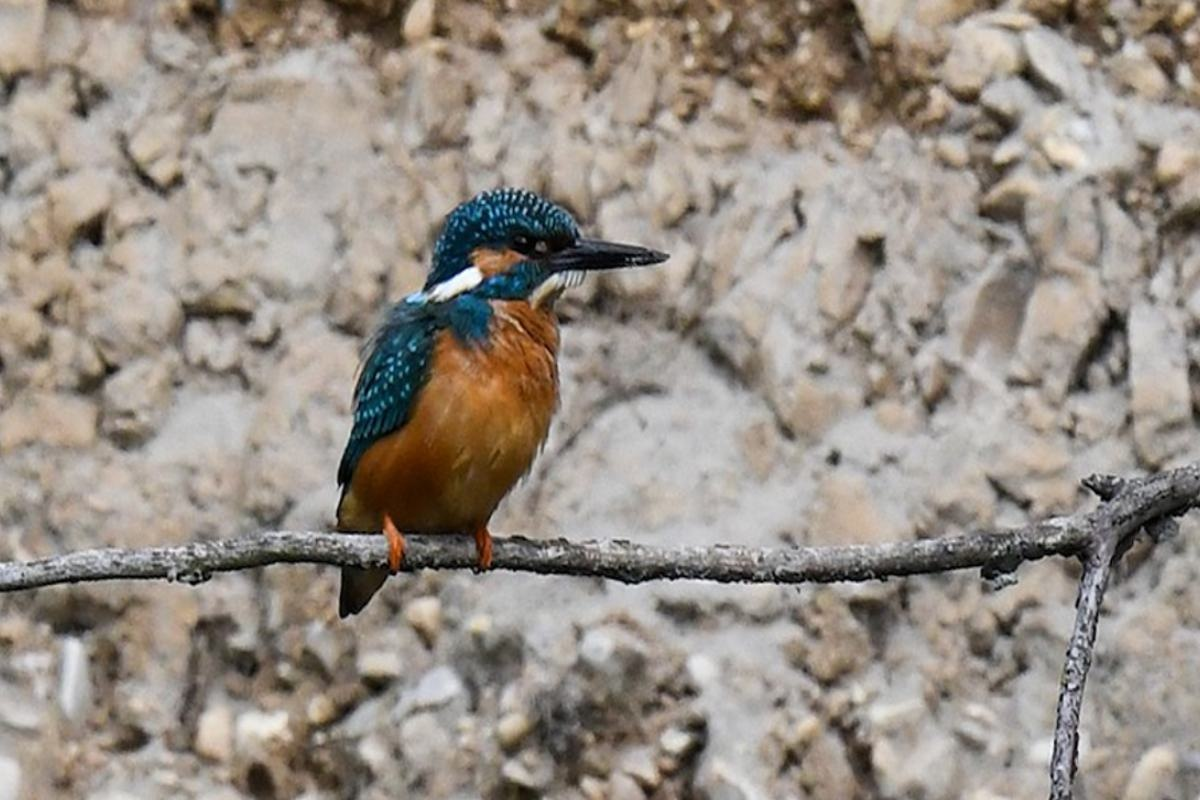kingfisher: (311, 172, 672, 578)
